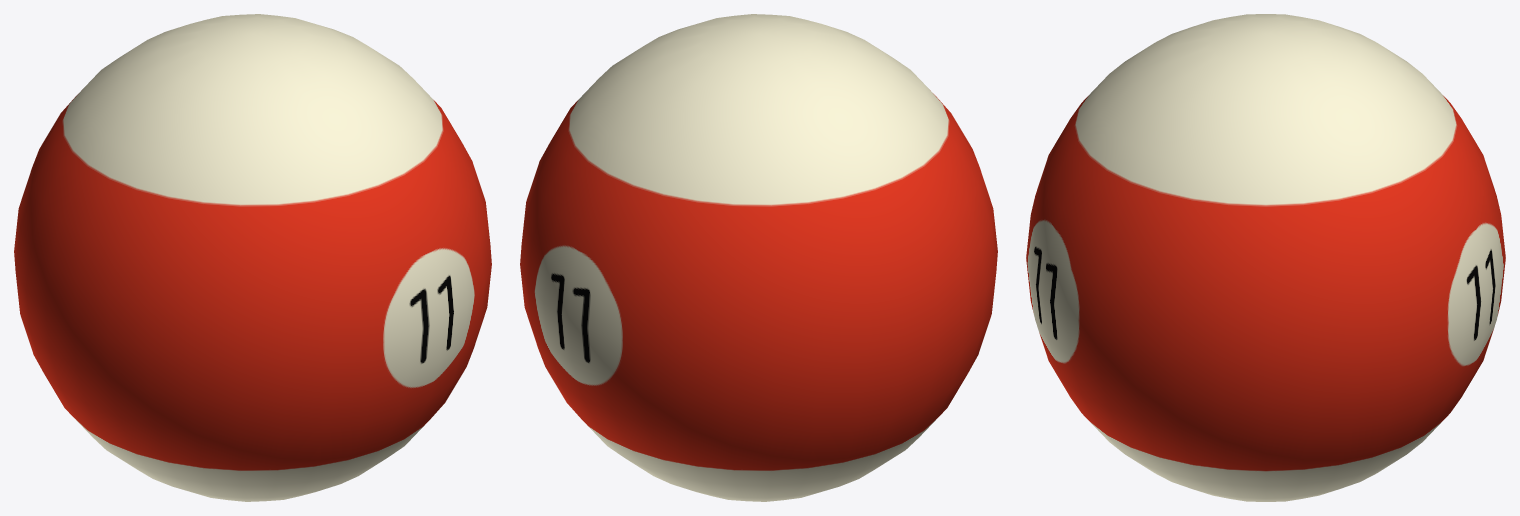
File: ball_11_LOD0.dae
3 views of the same model, side by side, from view 1: azimuth 30°, elevation 25°; view 2: azimuth 150°, elevation 25°; view 3: azimuth 270°, elevation 25° (orthographic).
Visible parts, largest first — view 1: ball_11_LOD0; view 2: ball_11_LOD0; view 3: ball_11_LOD0.
Part boxes in pixels (bbox=[...]): ball_11_LOD0: bbox=[14, 14, 491, 501]; ball_11_LOD0: bbox=[520, 14, 997, 501]; ball_11_LOD0: bbox=[1026, 14, 1505, 501].
Size of the model in its own units: 5.5 by 5.67 by 5.5.
